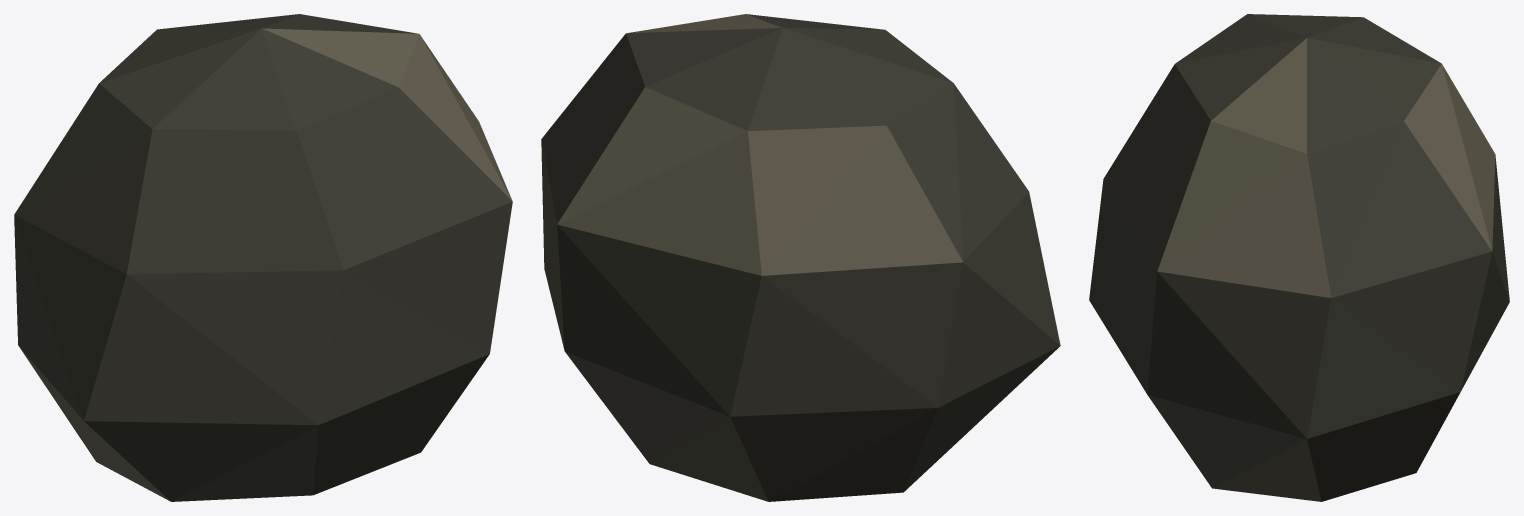
File: Rock_Boulder_01.fbx
The picture shows the model from 3 angles, left to right: view 1: azimuth 30°, elevation 25°; view 2: azimuth 150°, elevation 25°; view 3: azimuth 270°, elevation 25°; orthographic projection. The views are drawn at different scales.
Parts seen in each view (by area): view 1: Rock_Boulder_01_Mesh; view 2: Rock_Boulder_01_Mesh; view 3: Rock_Boulder_01_Mesh.
Part boxes in pixels (x1,y1,x2,y2): Rock_Boulder_01_Mesh: (14, 14, 512, 501); Rock_Boulder_01_Mesh: (541, 14, 1060, 501); Rock_Boulder_01_Mesh: (1089, 14, 1509, 501).
Size of the model in its own units: 1.79 by 1.68 by 1.45.
Materials: 1 (1 with a texture image).
